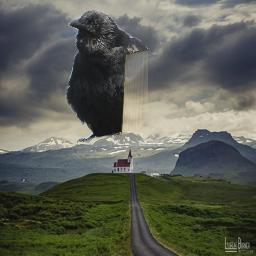Crow: (63, 9, 148, 143)
